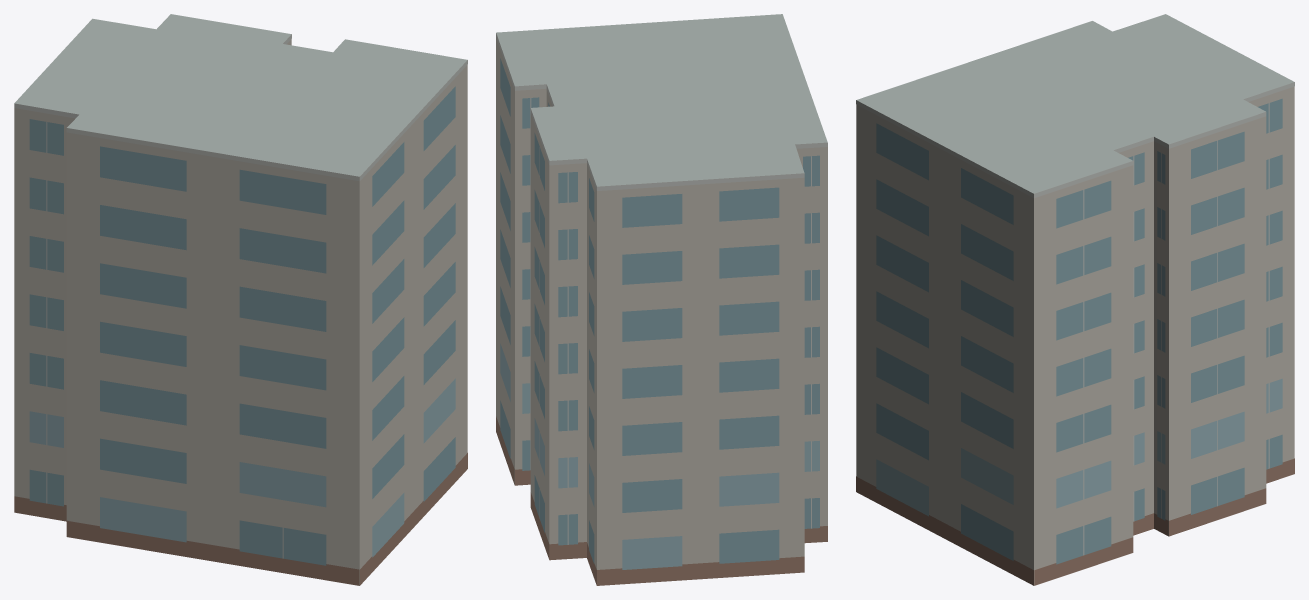
The model's file is survey-upis-32672675.glb.
The picture shows the model from 3 angles, left to right: view 1: azimuth 30°, elevation 25°; view 2: azimuth 150°, elevation 25°; view 3: azimuth 270°, elevation 25°; orthographic projection. The views are drawn at different scales.
Visible parts, largest first — view 1: survey-upis-32672675.tmp; view 2: survey-upis-32672675.tmp; view 3: survey-upis-32672675.tmp.
Boxes of the visible parts, x1,y1,x2,y2 form: survey-upis-32672675.tmp: (14,14,467,585); survey-upis-32672675.tmp: (496,14,827,585); survey-upis-32672675.tmp: (856,14,1294,585).
Bounding box in the file's own units: 21.47 × 21.8 × 22.12.
